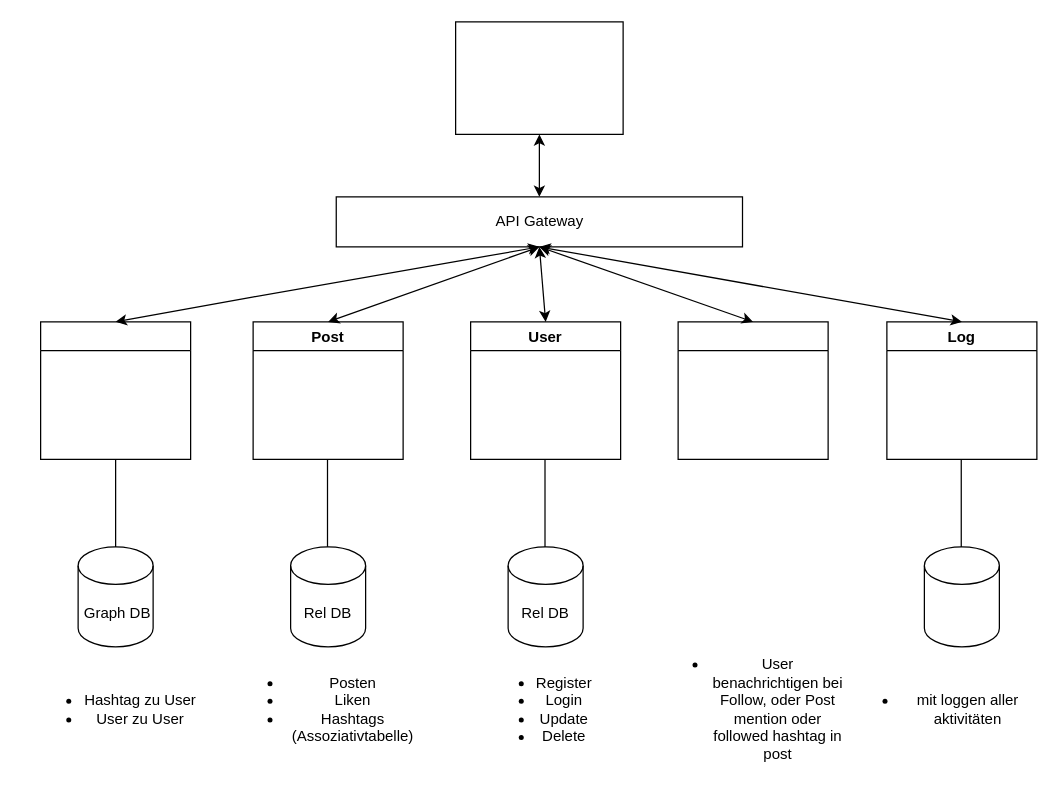
Some shapes in this 1059 by 800 pixel diagram are drawn without their labels. The shapes that lost their labels are listed below. From the top down, each one's centre as x and y in pixels, then its label:
At pixel 538 77: "Frontend".
At pixel 115 390: "Following".
At pixel 752 390: "Notification".
At pixel 961 596: "NoSQL".
